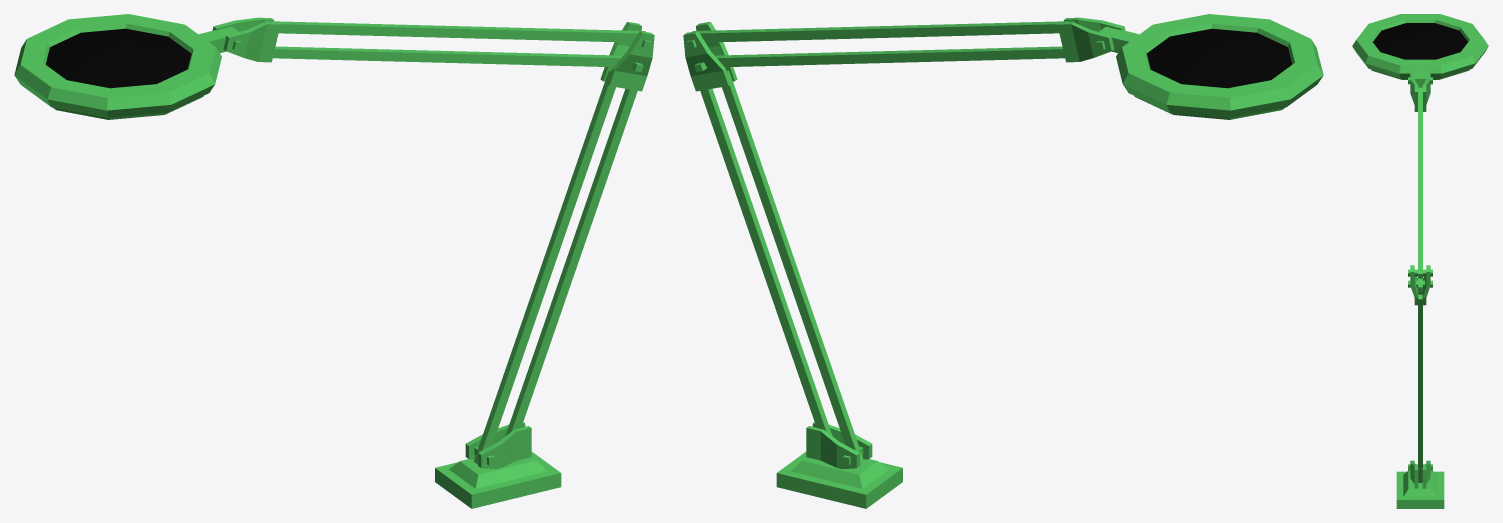
The model's file is Ph_lamp.fbx.
3 renders of one model, left to right at view 1: azimuth 30°, elevation 25°; view 2: azimuth 150°, elevation 25°; view 3: azimuth 270°, elevation 25°, orthographic. The views are drawn at different scales.
Parts seen in each view (by area): view 1: Cube_34; view 2: Cube_34; view 3: Cube_34.
Boxes of the visible parts, bbox=[...] form: Cube_34: bbox=[14, 14, 654, 508]; Cube_34: bbox=[683, 14, 1323, 508]; Cube_34: bbox=[1352, 14, 1488, 508].
Size of the model in its own units: 96.63 by 79.62 by 28.85.
